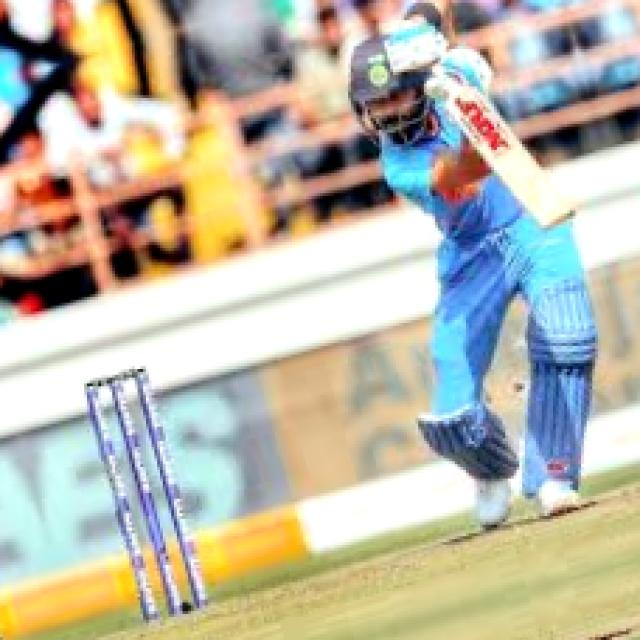toe: (516, 179, 586, 241)
